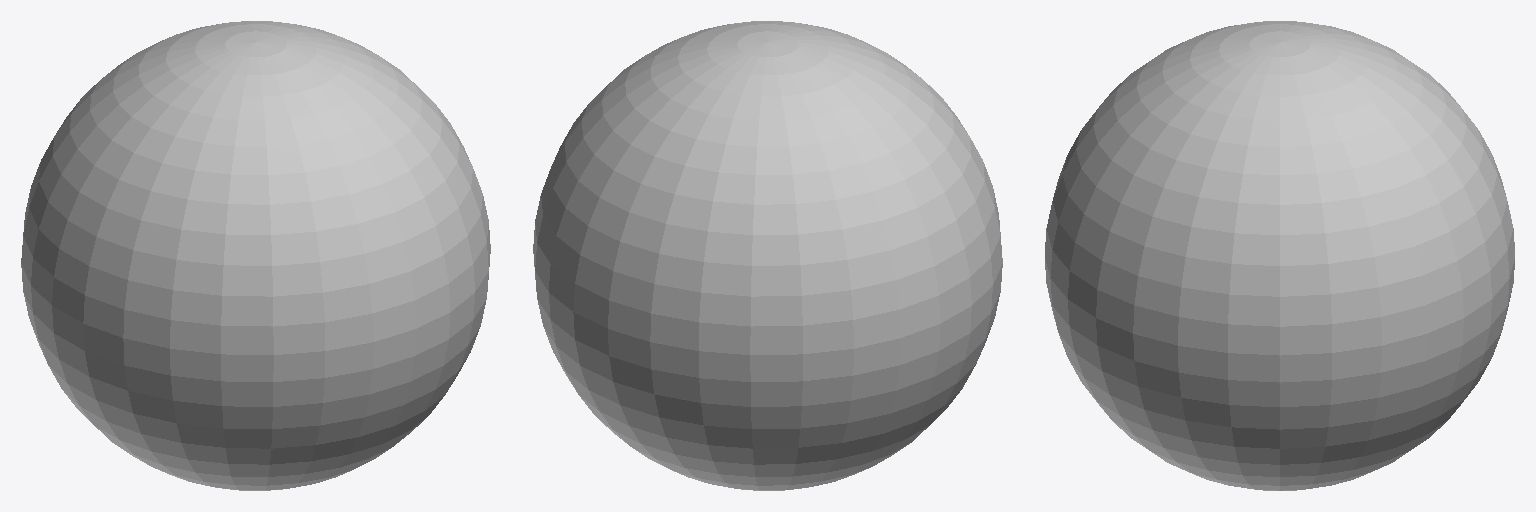
Rendered from ball.obj.
3 views of the same model, side by side, from view 1: azimuth 30°, elevation 25°; view 2: azimuth 150°, elevation 25°; view 3: azimuth 270°, elevation 25° (orthographic).
Parts seen in each view (by area): view 1: sphere1; view 2: sphere1; view 3: sphere1.
Boxes of the visible parts, x1=… form: sphere1: x1=21, y1=21, x2=490, y2=490; sphere1: x1=533, y1=21, x2=1002, y2=490; sphere1: x1=1045, y1=21, x2=1514, y2=490.
Bounding box in the file's own units: 2 × 2 × 2.